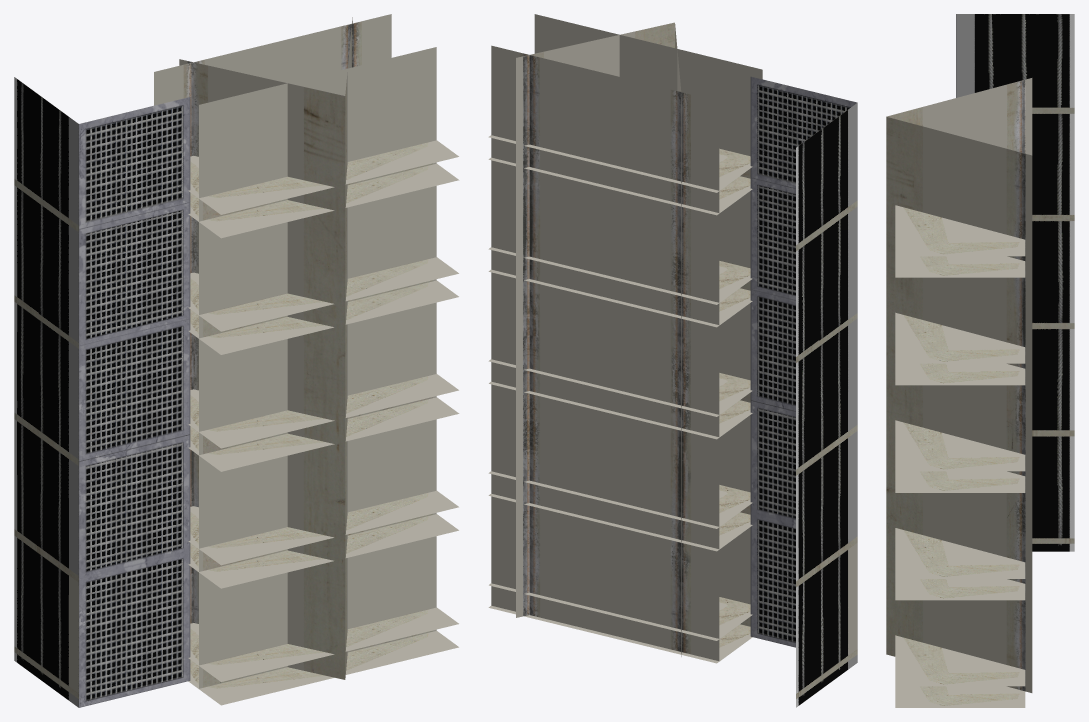
File: steel 1 lift ld.fbx
The picture shows the model from 3 angles, left to right: view 1: azimuth 30°, elevation 25°; view 2: azimuth 150°, elevation 25°; view 3: azimuth 270°, elevation 25°; orthographic projection. The views are drawn at different scales.
Visible parts, largest first — view 1: Plane_000; view 2: Plane_000; view 3: Plane_000.
Boxes of the visible parts, left/top/right/bottom form: Plane_000: left=14, top=14, right=459, bottom=707; Plane_000: left=488, top=14, right=857, bottom=707; Plane_000: left=886, top=14, right=1074, bottom=707.
Size of the model in its own units: 311 by 500 by 159.
